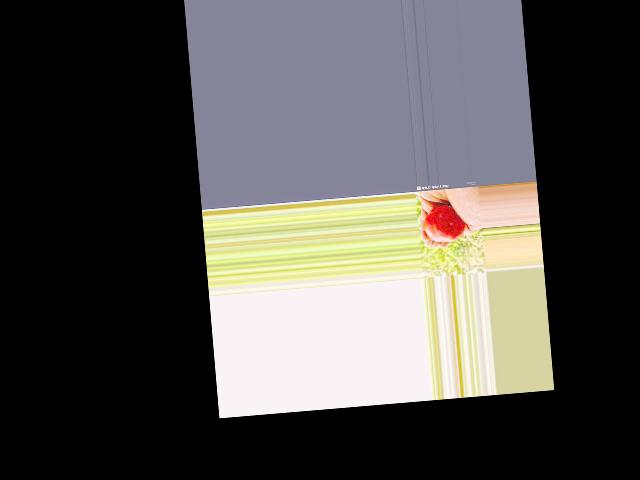tomato: (423, 203, 466, 243)
